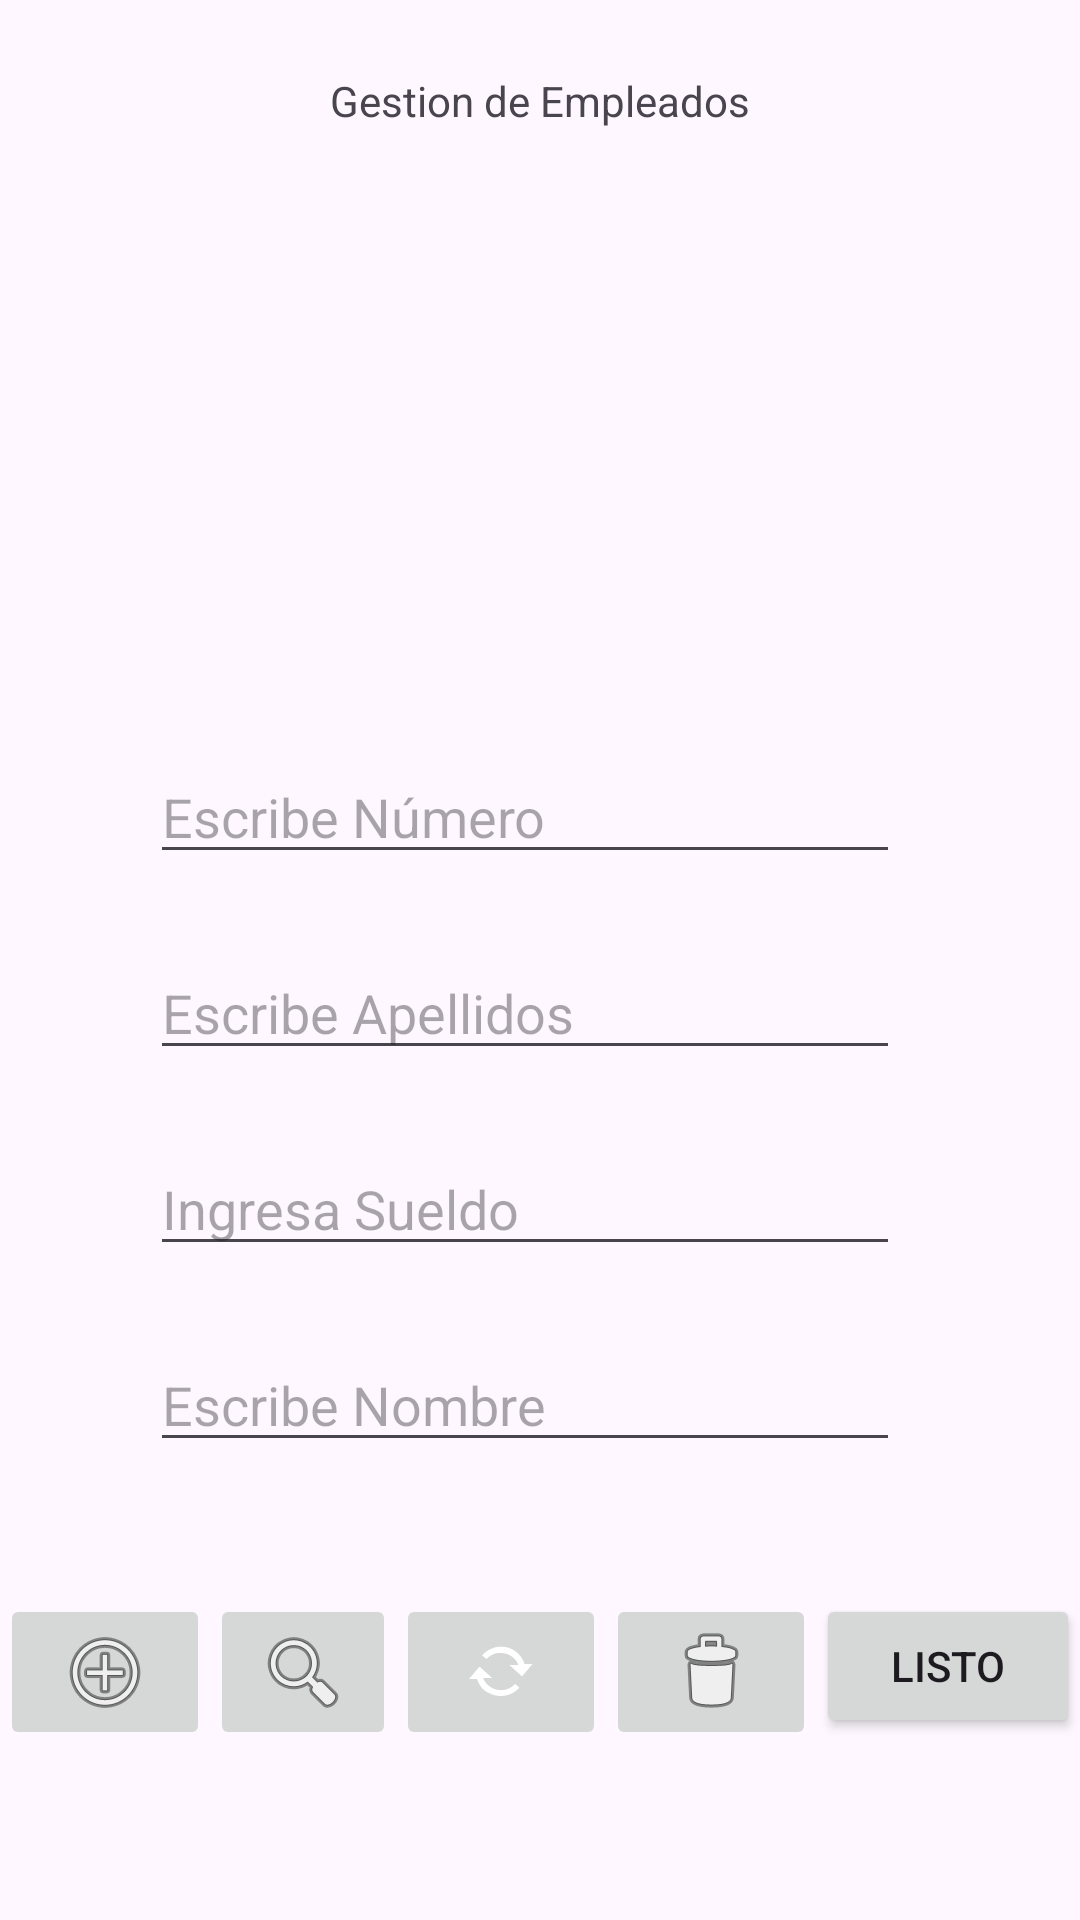

Icons on this 1080x1920 Android screen, each with the point to tap as point (x, y):
add: point (105, 1672)
delete: point (711, 1672)
search: point (303, 1672)
sync: point (501, 1672)
